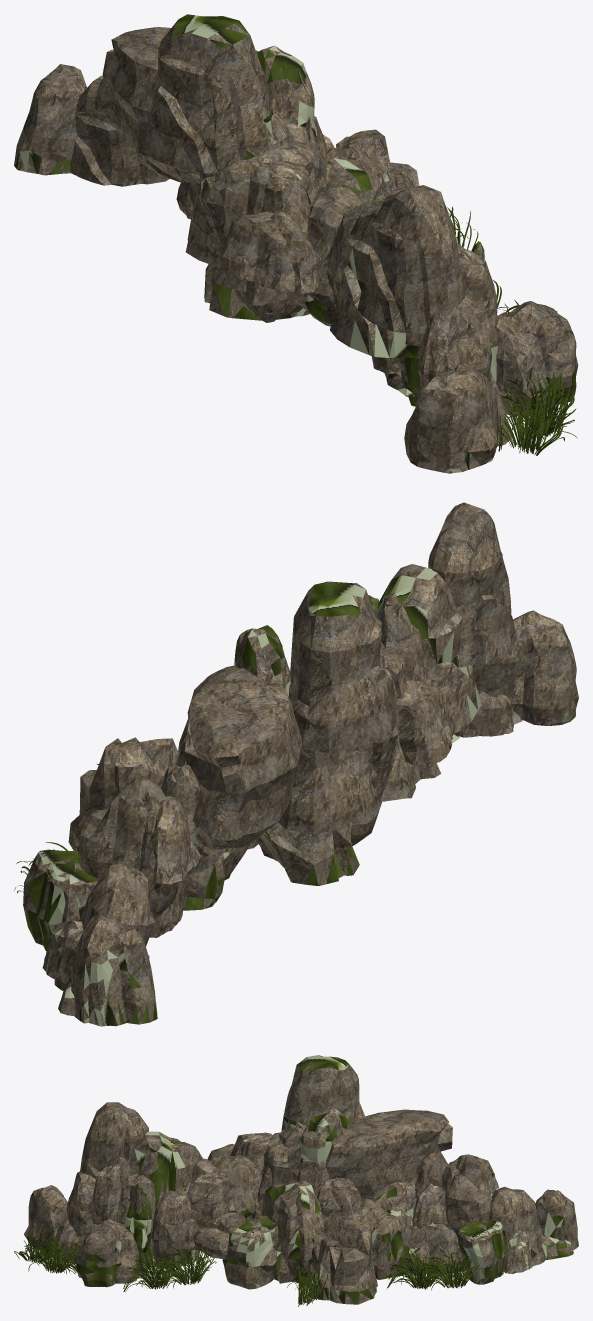
File: 5S_16Rock.FBX
3 views of the same model, one above another, from view 1: azimuth 30°, elevation 25°; view 2: azimuth 150°, elevation 25°; view 3: azimuth 270°, elevation 25° (orthographic). The views are drawn at different scales.
Visible parts, largest first — view 1: 5S_14rock1_11; view 2: 5S_14rock1_11; view 3: 5S_14rock1_11.
Part boxes in pixels (left/top/right/bottom): 5S_14rock1_11: left=14, top=14, right=578, bottom=473; 5S_14rock1_11: left=14, top=502, right=578, bottom=1026; 5S_14rock1_11: left=14, top=1055, right=578, bottom=1306.
Size of the model in its own units: 3.96 by 3.51 by 10.1.
Materials: 2 (2 with a texture image).
